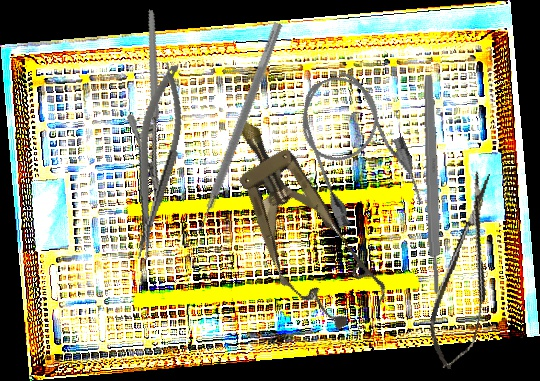Cannula: (286, 61, 429, 236)
Micro Scissor: (420, 168, 513, 374)
Needle Holder: (95, 9, 217, 206), (116, 60, 195, 263)
Scalpel Handle: (421, 74, 443, 295)
Spatula Surgical: (186, 18, 284, 238)
Speculum: (200, 97, 397, 343)
